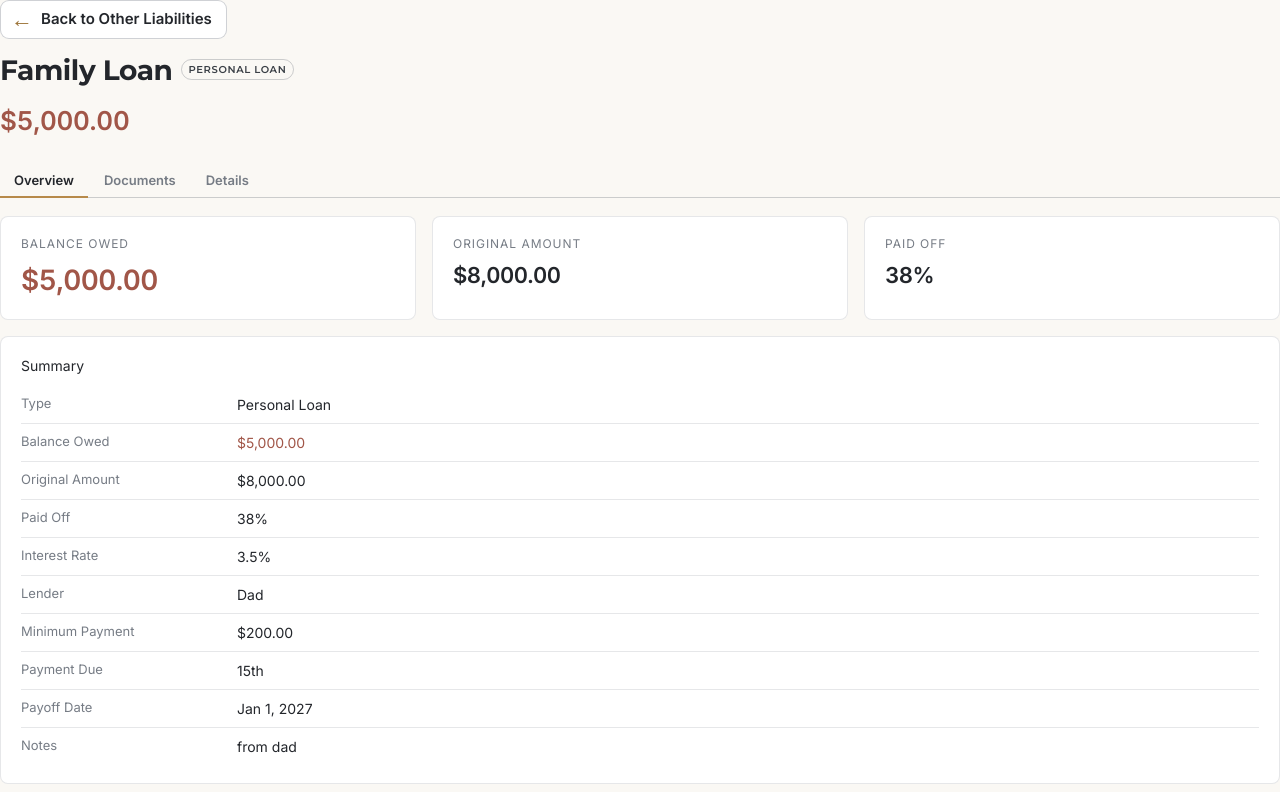
Test: LiabilityDetail page › surfaces a delete error
Expected: the heading "Family Loan Personal Loan" is shown, [0, 48, 294, 90]
Click the button "Details" at [227, 180], box [192, 164, 263, 198]
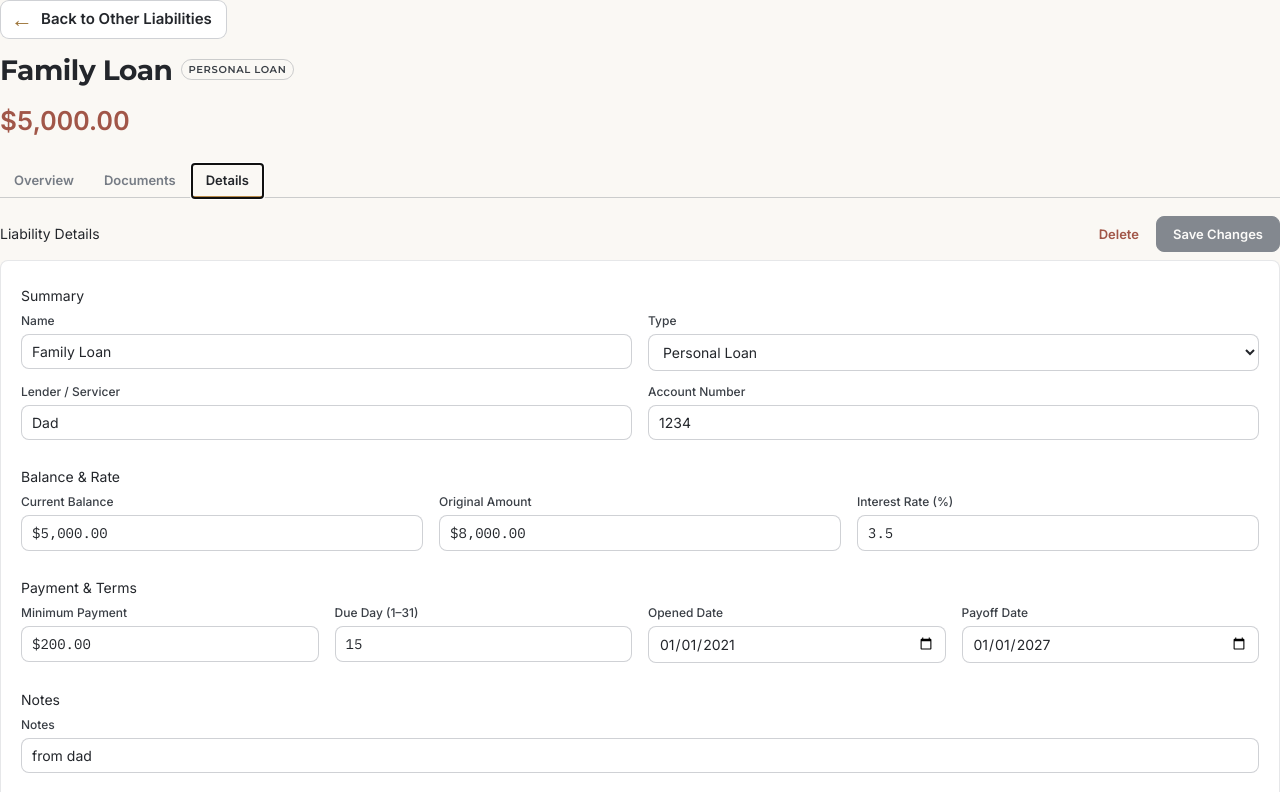
Click the button "Delete" at [1119, 234], box [1090, 216, 1148, 252]
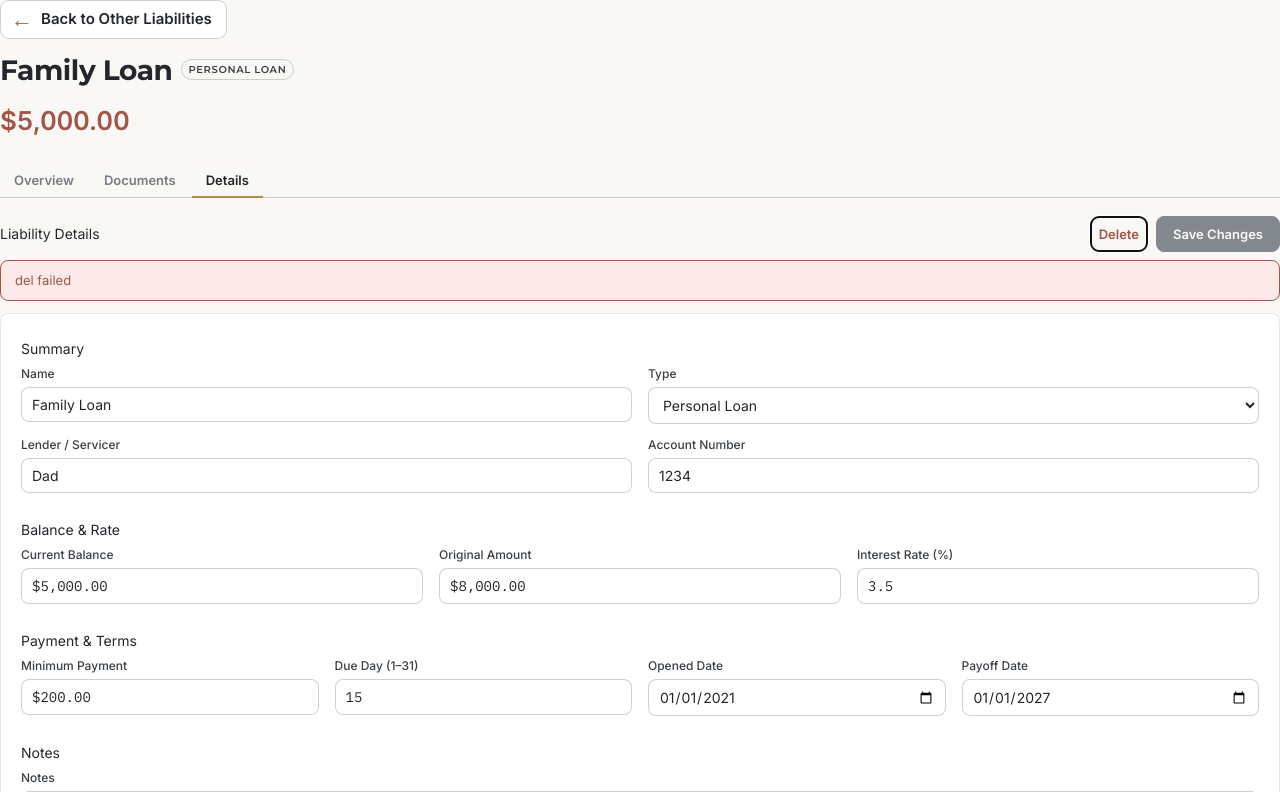
Expected: the text "del failed" is shown, [0, 260, 1279, 301]
